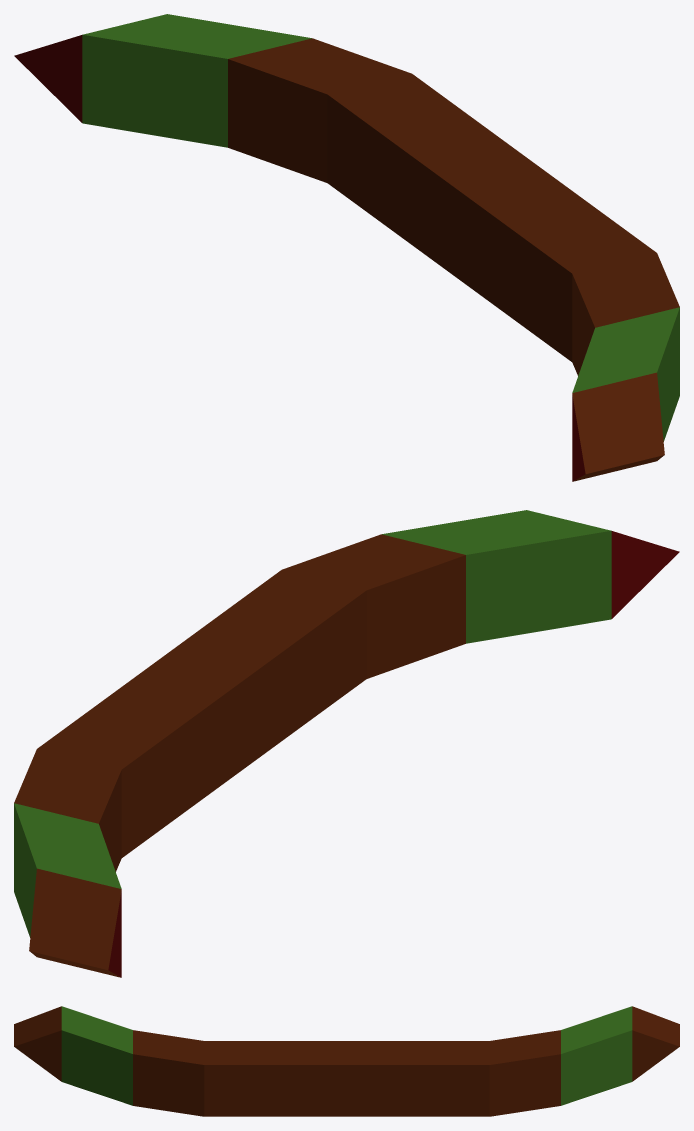
File: woodsman_weapon_ranged.glb
3 views of the same model, one above another, from view 1: azimuth 30°, elevation 25°; view 2: azimuth 150°, elevation 25°; view 3: azimuth 270°, elevation 25° (orthographic). The views are drawn at different scales.
Visible parts, largest first — view 1: woodsman_weapon_ranged; view 2: woodsman_weapon_ranged; view 3: woodsman_weapon_ranged.
Boxes of the visible parts, x1,y1,x2,y2 form: woodsman_weapon_ranged: (14, 14, 679, 481); woodsman_weapon_ranged: (14, 510, 679, 977); woodsman_weapon_ranged: (14, 1006, 679, 1116).
Bounding box in the file's own units: 0.5538 × 0.2 × 2.33.
1 material, 1 textured.
